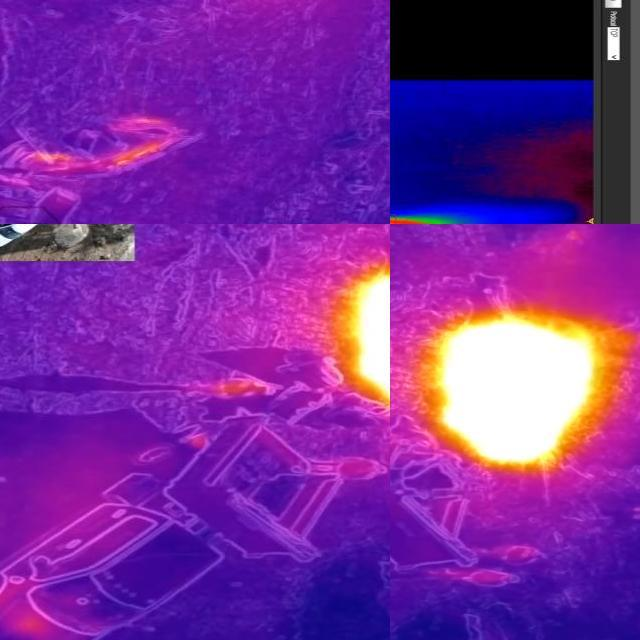fire: (423, 310, 635, 471), (349, 251, 391, 417)
